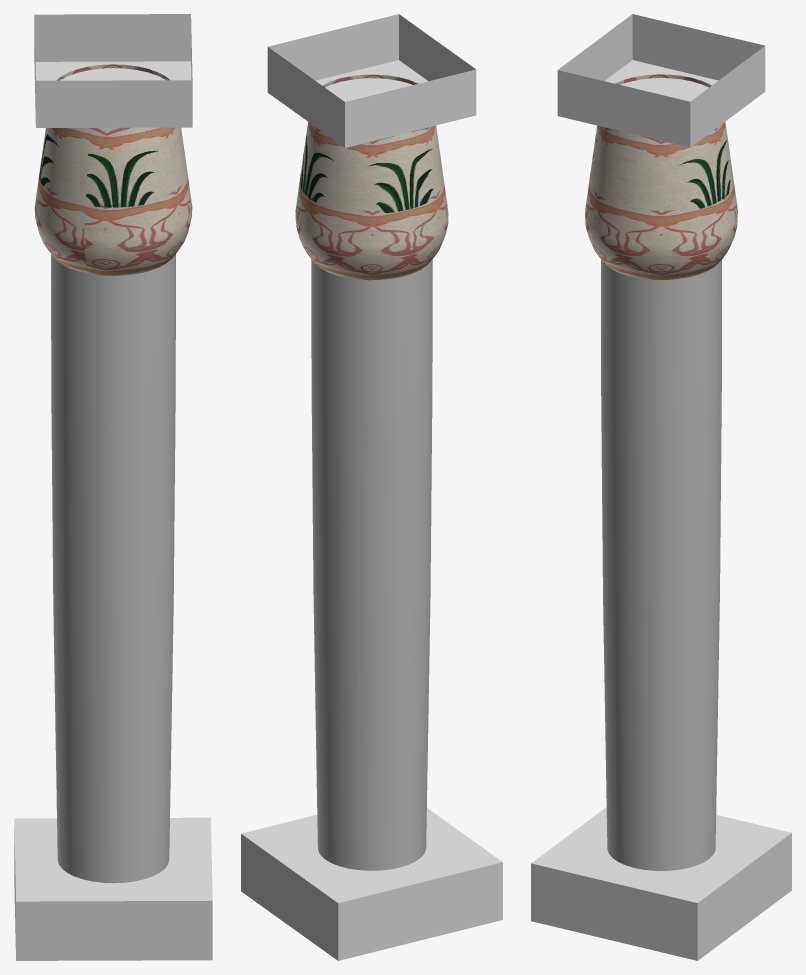
The model's file is columna.fbx.
3 views of the same model, side by side, from view 1: azimuth 30°, elevation 25°; view 2: azimuth 150°, elevation 25°; view 3: azimuth 270°, elevation 25° (orthographic). The views are drawn at different scales.
Visible parts, largest first — view 1: Cylinder, Cube, Cylinder.001, Cube.001; view 2: Cylinder, Cube, Cylinder.001, Cube.001; view 3: Cylinder, Cube, Cylinder.001, Cube.001.
Part boxes in pixels (bbox=[...]): Cylinder: bbox=[51, 254, 175, 883]; Cube: bbox=[14, 817, 212, 960]; Cylinder.001: bbox=[34, 64, 192, 275]; Cube.001: bbox=[34, 14, 192, 127]; Cylinder: bbox=[311, 259, 432, 870]; Cube: bbox=[241, 808, 502, 960]; Cylinder.001: bbox=[295, 74, 448, 280]; Cube.001: bbox=[267, 14, 476, 147]; Cylinder: bbox=[601, 259, 721, 870]; Cube: bbox=[531, 807, 791, 960]; Cylinder.001: bbox=[585, 74, 737, 279]; Cube.001: bbox=[557, 14, 765, 147].
Size of the model in its own units: 142 by 511 by 142.
